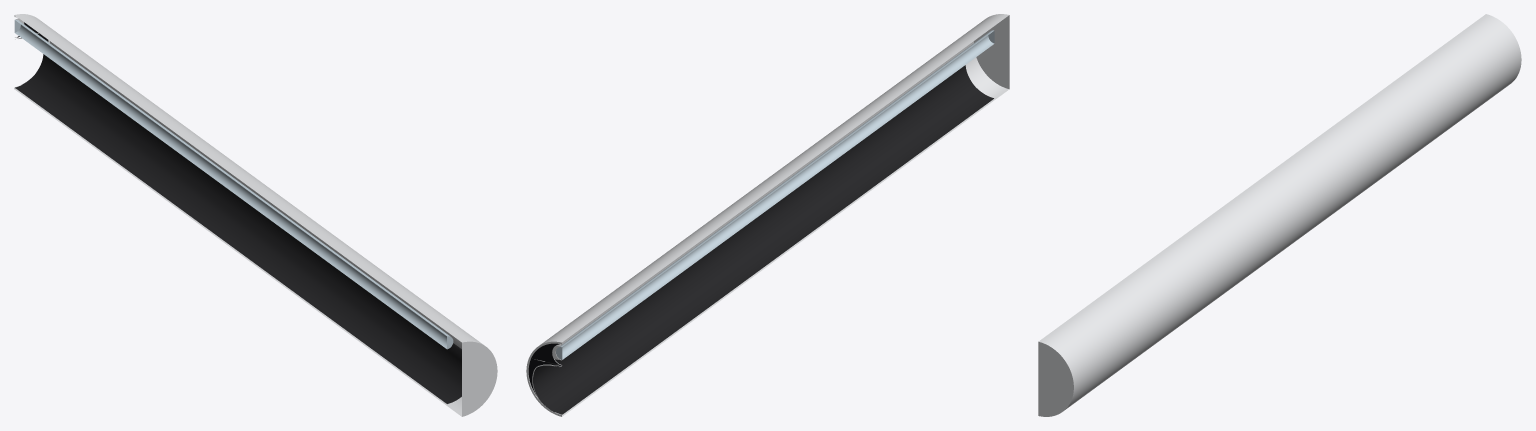
The model's file is operative-telescope-cutaway.11a7111b6c8a.glb.
3 renders of one model, left to right at view 1: azimuth 30°, elevation 25°; view 2: azimuth 150°, elevation 25°; view 3: azimuth 330°, elevation 25°, orthographic.
Visible parts, largest first — view 1: distalFace, shaft; view 2: distalFace, shaft; view 3: shaft.
Part boxes in pixels (x1,y1,x2,y2): distalFace: (14, 17, 461, 403); shaft: (14, 14, 497, 416); distalFace: (528, 30, 994, 414); shaft: (526, 14, 1009, 416); shaft: (1038, 14, 1521, 416).
Size of the model in its own units: 2.75 by 5.5 by 60.
